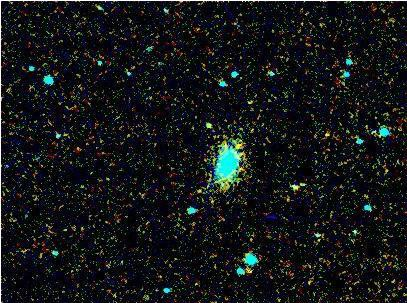star: (231, 255, 261, 285)
